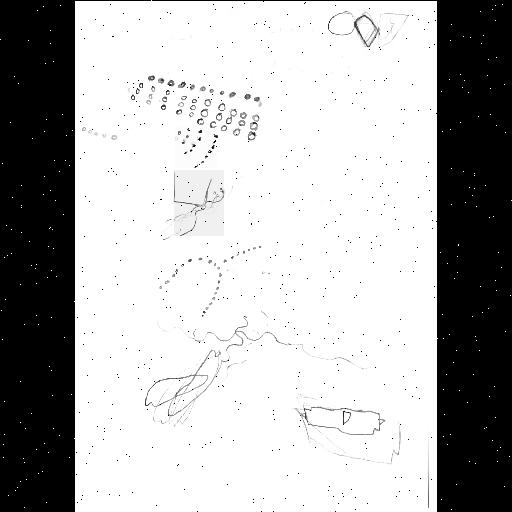shape-1: (326, 6, 384, 46)
shape-2: (149, 74, 259, 100)
shape-3: (130, 81, 258, 139)
shape-4: (175, 126, 217, 168)
shape-5: (174, 170, 224, 236)
shape-6: (162, 242, 262, 316)
shape-7: (194, 318, 288, 360)
shape-8: (146, 350, 222, 416)
shape-9: (299, 402, 387, 438)
